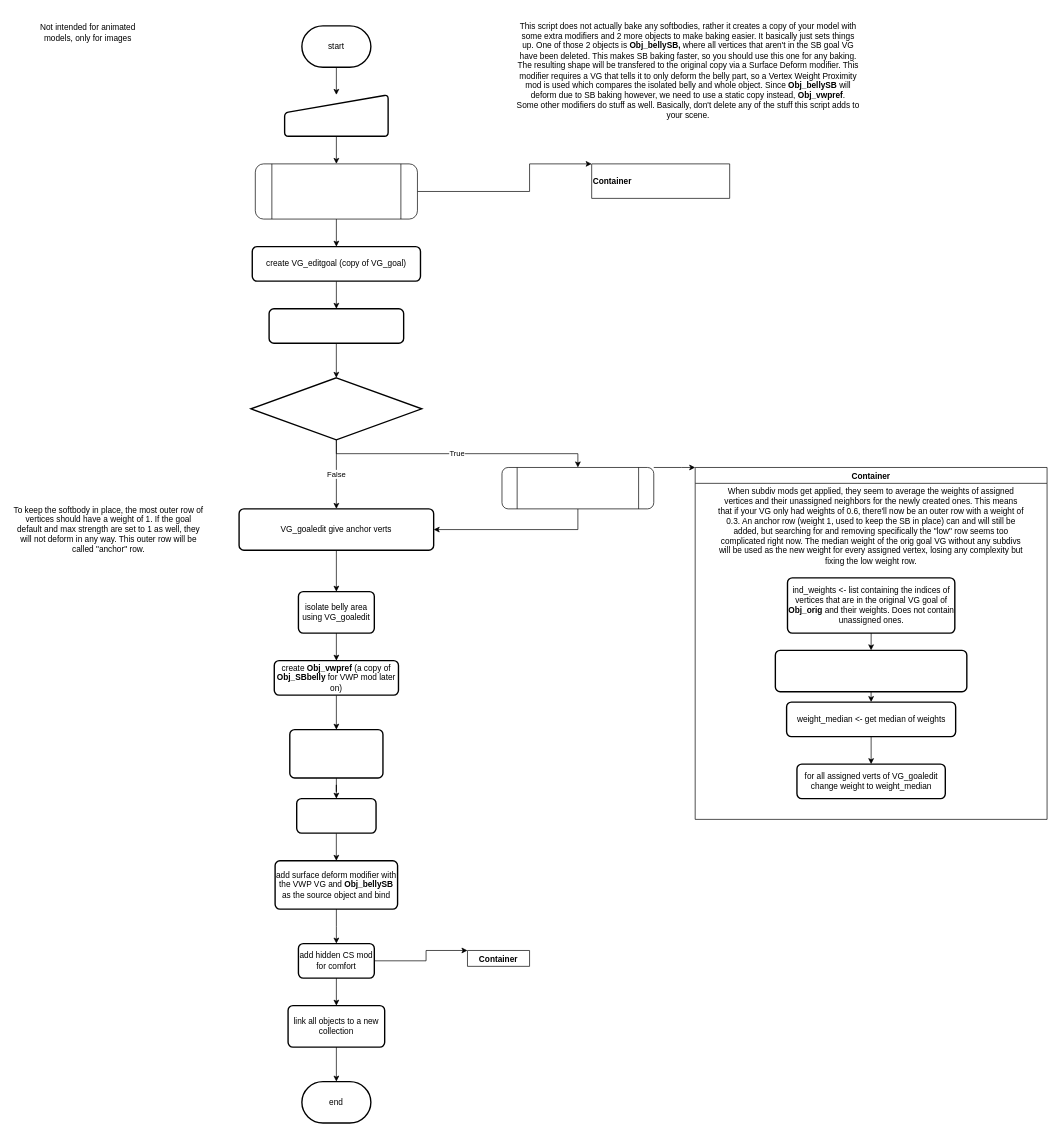
The diagram is 1059 pixels wide and 1135 high, and some of its shapes have lost their labels. The shapes that lost their labels are listed below. From the top down, each one's centre as x and y in pixels, then its label:
At [336,115]: "Obj_orig <- duplicate of selected model".
At [336,191]: "Obj_bellySB <- create static copy with everything applied (except the SB mod)".
At [336,326]: "set as SB goal VG also reset SB mass and goal strength".
At [336,408]: "if Obj_orig has any active subdiv mods".
At [577,488]: "give all vertices the same (median) weight".
At [870,670]: "weights <- ind_weights but without any indices".
At [336,753]: "create new VG for Obj_orig and add VWP mod".
At [336,816]: "VWP mod to geometry of Obj_vwpref".
